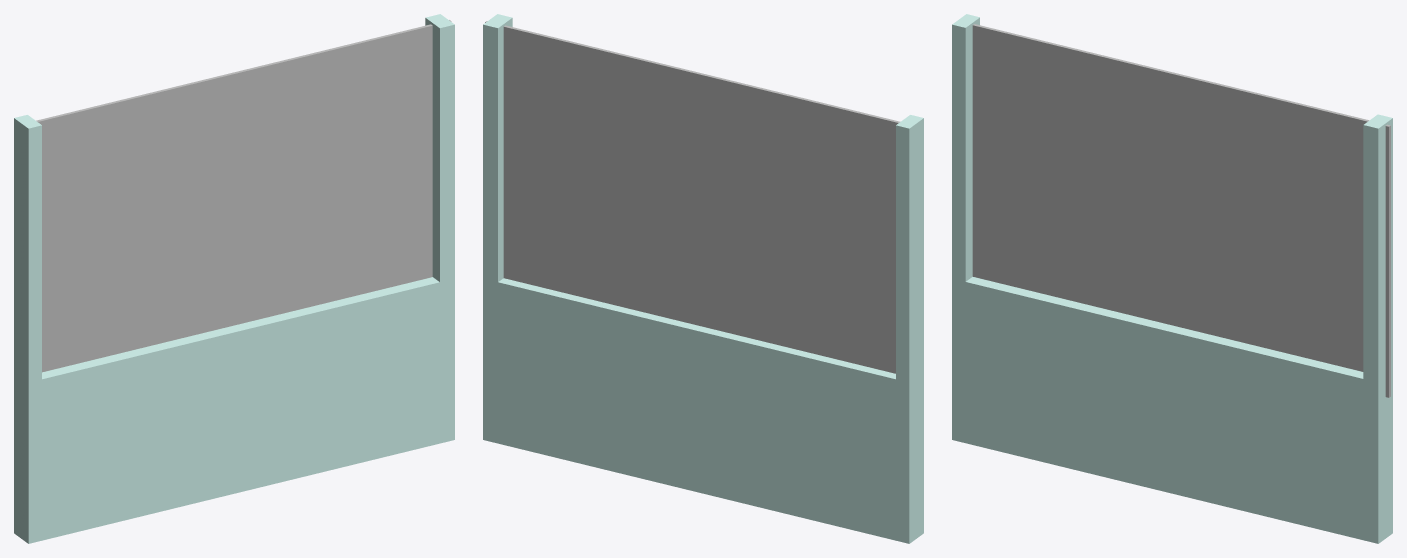
Rendered from fence_5.fbx.
The picture shows the model from 3 angles, left to right: view 1: azimuth 30°, elevation 25°; view 2: azimuth 150°, elevation 25°; view 3: azimuth 330°, elevation 25°; orthographic projection.
Parts seen in each view (by area): view 1: fence_5; view 2: fence_5; view 3: fence_5.
Part boxes in pixels (x1,y1,x2,y2): fence_5: (14,14,454,543); fence_5: (483,14,923,543); fence_5: (952,14,1392,543).
Size of the model in its own units: 3.3 by 3.04 by 0.1927.
